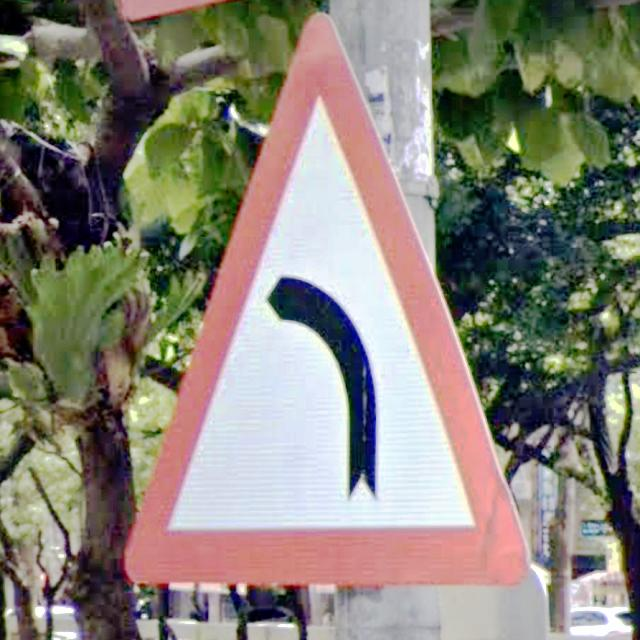leftbend: (126, 13, 532, 594)
